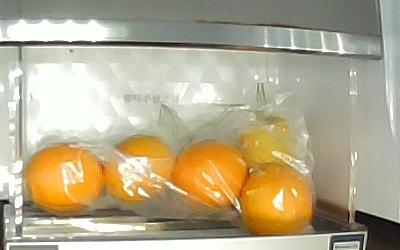orange_vinyl: (27, 143, 104, 214), (172, 139, 246, 211), (241, 163, 313, 235), (102, 134, 174, 203), (236, 115, 296, 169)
